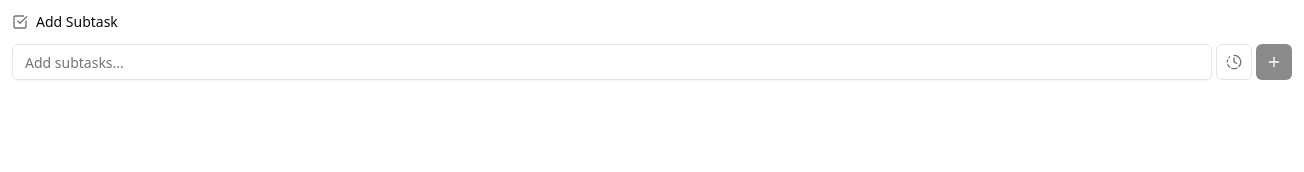
SubtaskContent › Adding Subtasks › clears input after successful add but keeps it visible
Type "New Subtask" into the field with test id "subtask-input" at [612, 62], box [12,44,1212,80]
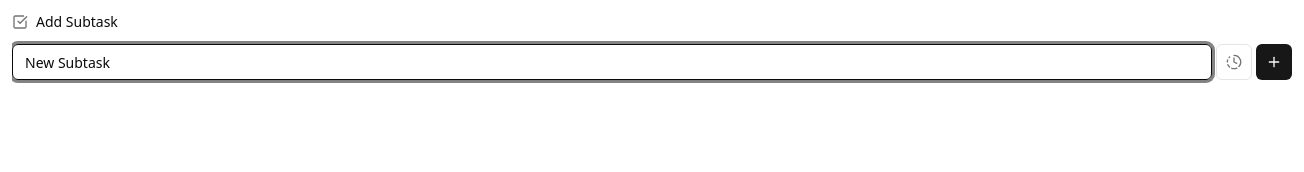
Press Enter
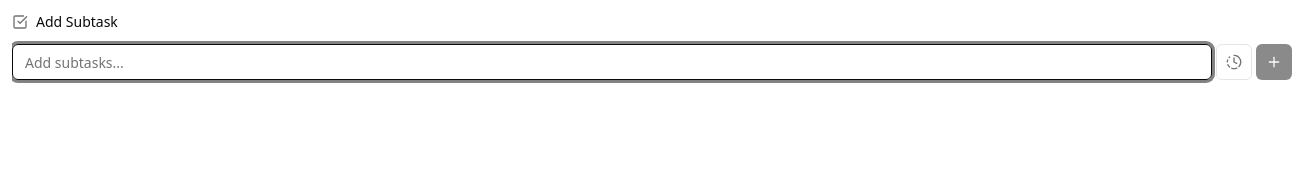
Now the field with test id "subtask-input" is empty, box [12,44,1212,80]
